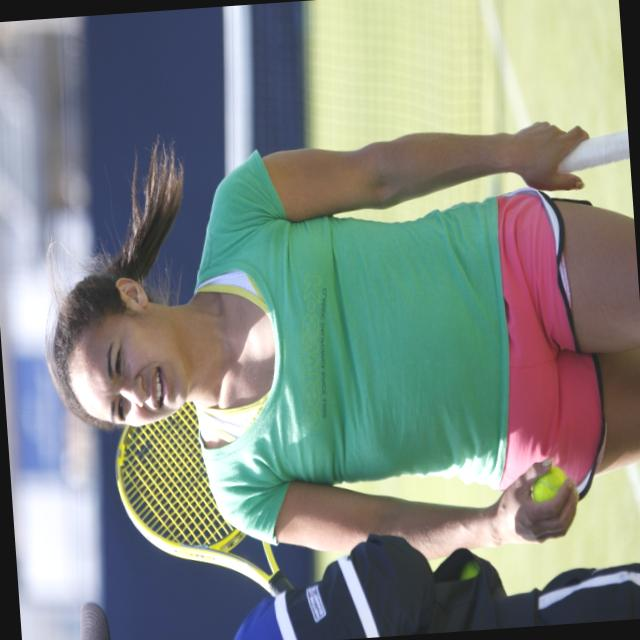Tennis Ball: (530, 463, 570, 500)
